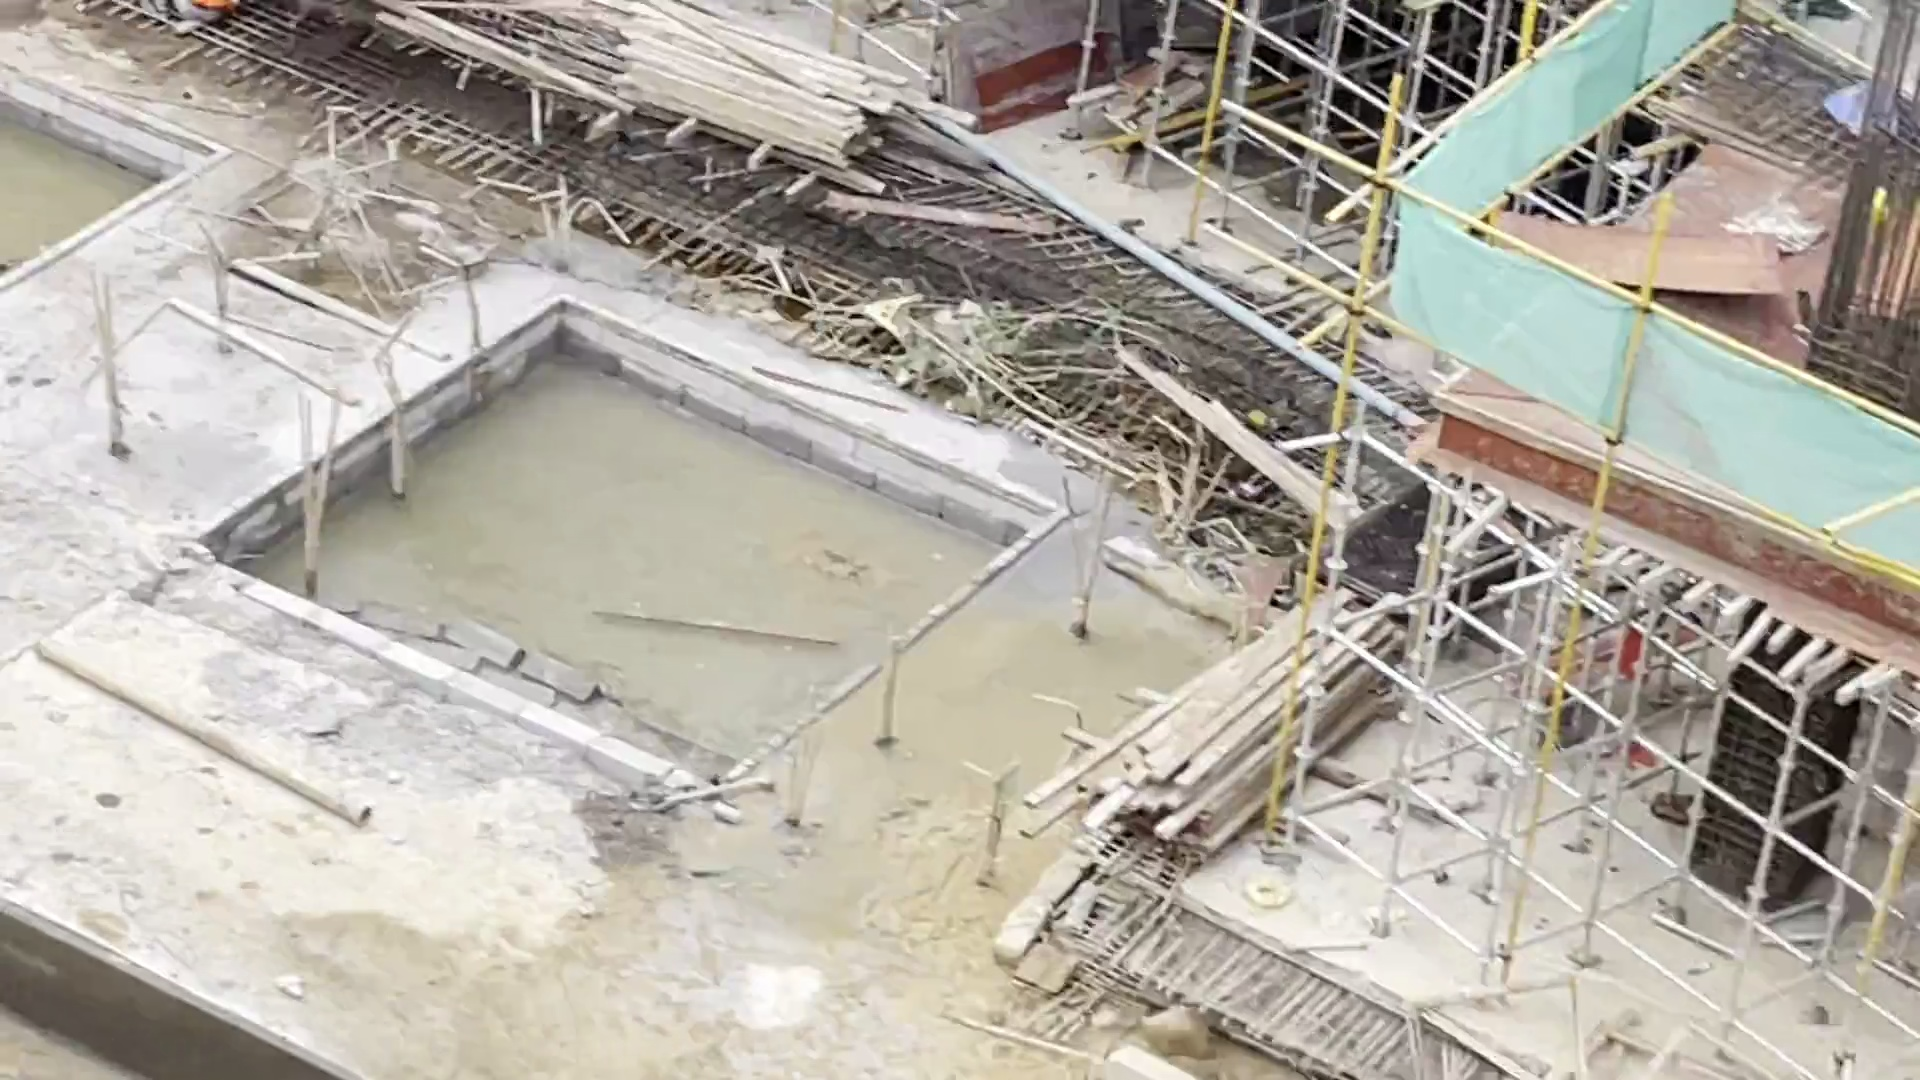wood: (1015, 585, 1400, 861)
